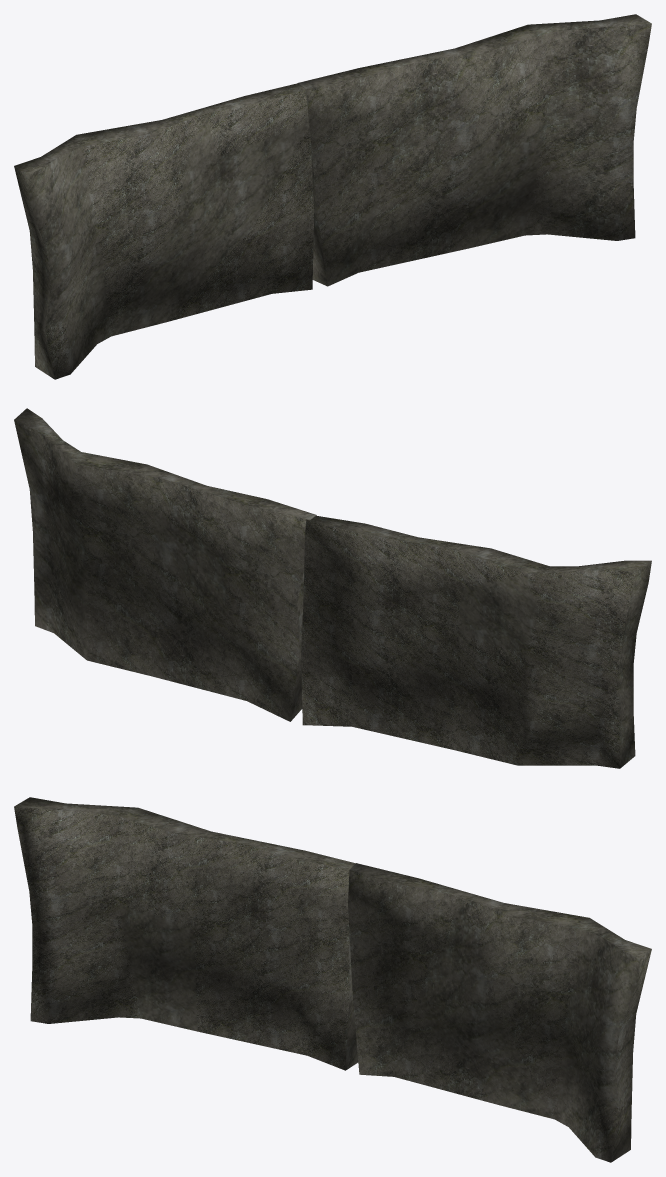
File: PoolCliffEntrance.glb
The picture shows the model from 3 angles, top to bottom: view 1: azimuth 30°, elevation 25°; view 2: azimuth 150°, elevation 25°; view 3: azimuth 330°, elevation 25°; orthographic projection.
Parts seen in each view (by area): view 1: Big-Cliff-Right, Big-Cliff-Left; view 2: Big-Cliff-Left, Big-Cliff-Right; view 3: Big-Cliff-Left, Big-Cliff-Right.
Boxes of the visible parts, bbox=[...] form: Big-Cliff-Right: bbox=[297, 14, 651, 286]; Big-Cliff-Left: bbox=[14, 83, 314, 379]; Big-Cliff-Left: bbox=[301, 515, 651, 768]; Big-Cliff-Right: bbox=[14, 408, 316, 721]; Big-Cliff-Left: bbox=[14, 797, 358, 1070]; Big-Cliff-Right: bbox=[348, 863, 651, 1162].
Size of the model in its own units: 180 by 57.4 by 23.84.
2 materials, 2 textured.
